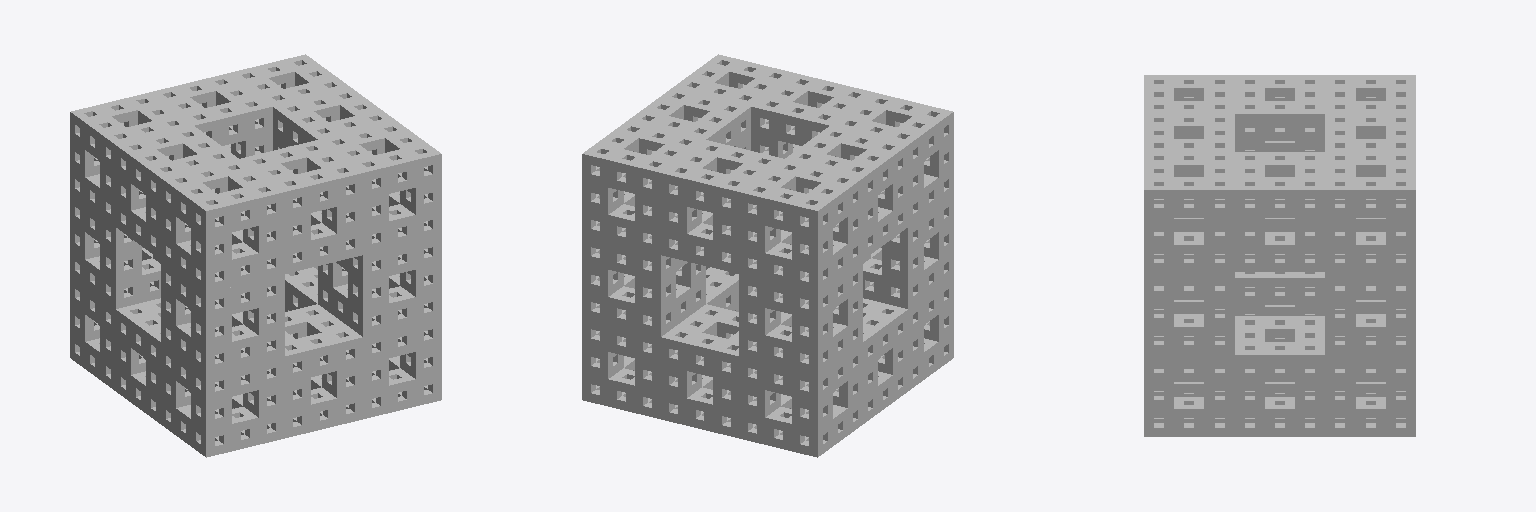
The model's file is default_block_3.obj.
The picture shows the model from 3 angles: view 1: azimuth 30°, elevation 25°; view 2: azimuth 150°, elevation 25°; view 3: azimuth 270°, elevation 25°; orthographic projection.
Parts seen in each view (by area): view 1: Cube.006_Cube.031; view 2: Cube.006_Cube.031; view 3: Cube.006_Cube.031.
Boxes of the visible parts, x1=… form: Cube.006_Cube.031: x1=70, y1=54, x2=441, y2=457; Cube.006_Cube.031: x1=582, y1=54, x2=953, y2=457; Cube.006_Cube.031: x1=1144, y1=75, x2=1415, y2=436.
Bounding box in the file's own units: 1 × 1 × 1.